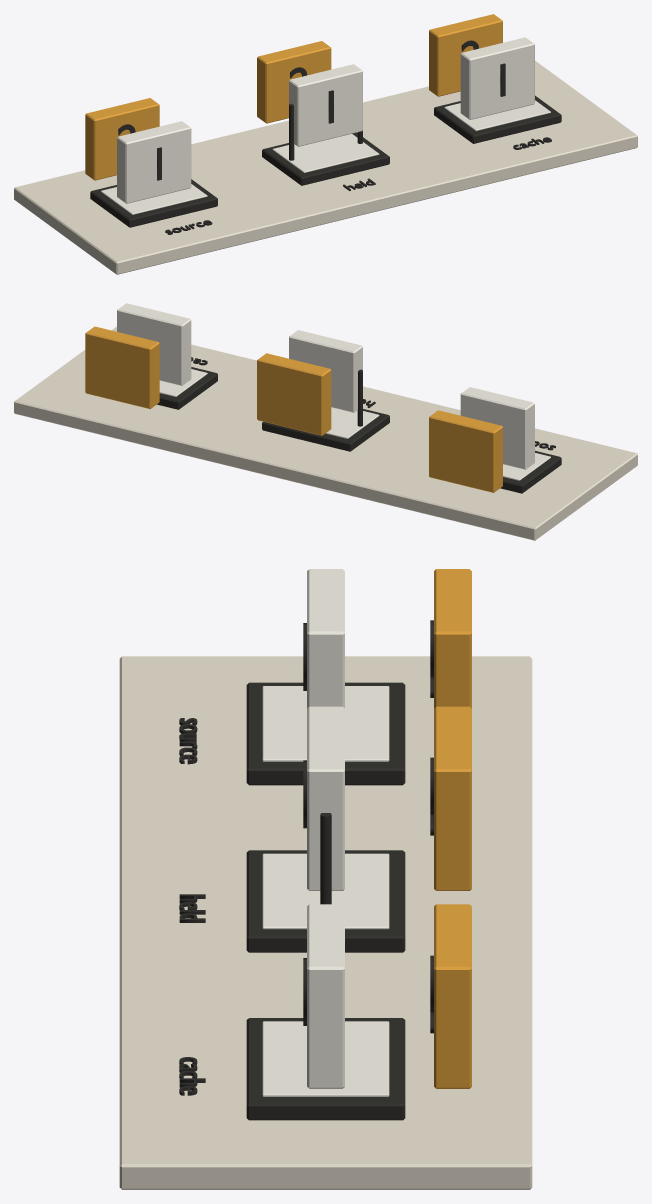
3 views of the same model, one above another, from view 1: azimuth 30°, elevation 25°; view 2: azimuth 150°, elevation 25°; view 3: azimuth 270°, elevation 25° (orthographic). The views are drawn at different scales.
Parts seen in each view (by area): view 1: Plinth, Source_1, Cache_1, Held_1, Source_2, Held_2, Cache_2, Held_Inset, Held_Socket, Source_Socket, Cache_Socket, Cache_Inset (+1 smaller); view 2: Plinth, Cache_2, Held_2, Source_2, Cache_1, Source_1, Held_1, Held_Socket, Held_Inset, Cache_Socket, Source_Socket, Cache_Inset (+1 smaller); view 3: Plinth, Held_2, Cache_2, Held_Inset, Cache_1, Cache_Inset, Cache_Socket, Source_Inset, Held_1, Held_Socket, Source_Socket, Source_2 (+2 smaller).
Part boxes in pixels (x1=…): Plinth: x1=14, y1=60, x2=637, y2=274; Source_1: x1=117, y1=121, x2=191, y2=203; Cache_1: x1=460, y1=37, x2=534, y2=119; Held_1: x1=289, y1=64, x2=362, y2=146; Source_2: x1=85, y1=98, x2=159, y2=180; Held_2: x1=257, y1=41, x2=331, y2=123; Cache_2: x1=429, y1=14, x2=502, y2=96; Held_Inset: x1=272, y1=134, x2=379, y2=172; Held_Socket: x1=262, y1=132, x2=389, y2=185; Source_Socket: x1=90, y1=179, x2=217, y2=227; Cache_Socket: x1=434, y1=95, x2=561, y2=143; Cache_Inset: x1=444, y1=100, x2=550, y2=130; Plinth: x1=14, y1=326, x2=637, y2=540; Cache_2: x1=85, y1=326, x2=159, y2=408; Held_2: x1=257, y1=353, x2=331, y2=435; Source_2: x1=429, y1=410, x2=502, y2=492; Cache_1: x1=117, y1=303, x2=191, y2=385; Source_1: x1=460, y1=387, x2=534, y2=469; Held_1: x1=289, y1=330, x2=362, y2=412; Held_Socket: x1=262, y1=409, x2=389, y2=451; Held_Inset: x1=325, y1=407, x2=379, y2=438; Cache_Socket: x1=157, y1=367, x2=217, y2=409; Source_Socket: x1=500, y1=450, x2=561, y2=493; Cache_Inset: x1=159, y1=369, x2=207, y2=396; Plinth: x1=119, y1=656, x2=532, y2=1189; Held_2: x1=430, y1=706, x2=471, y2=890; Cache_2: x1=430, y1=904, x2=471, y2=1088; Held_Inset: x1=262, y1=853, x2=389, y2=929; Cache_1: x1=303, y1=904, x2=344, y2=1088; Cache_Inset: x1=262, y1=1021, x2=389, y2=1096; Cache_Socket: x1=246, y1=1018, x2=405, y2=1120; Source_Inset: x1=262, y1=686, x2=389, y2=761; Held_1: x1=303, y1=706, x2=344, y2=890; Held_Socket: x1=246, y1=850, x2=405, y2=952; Source_Socket: x1=246, y1=682, x2=405, y2=785; Source_2: x1=430, y1=569, x2=471, y2=708.
Bounding box in the file's own units: 7.6 × 1.38 × 2.6.
